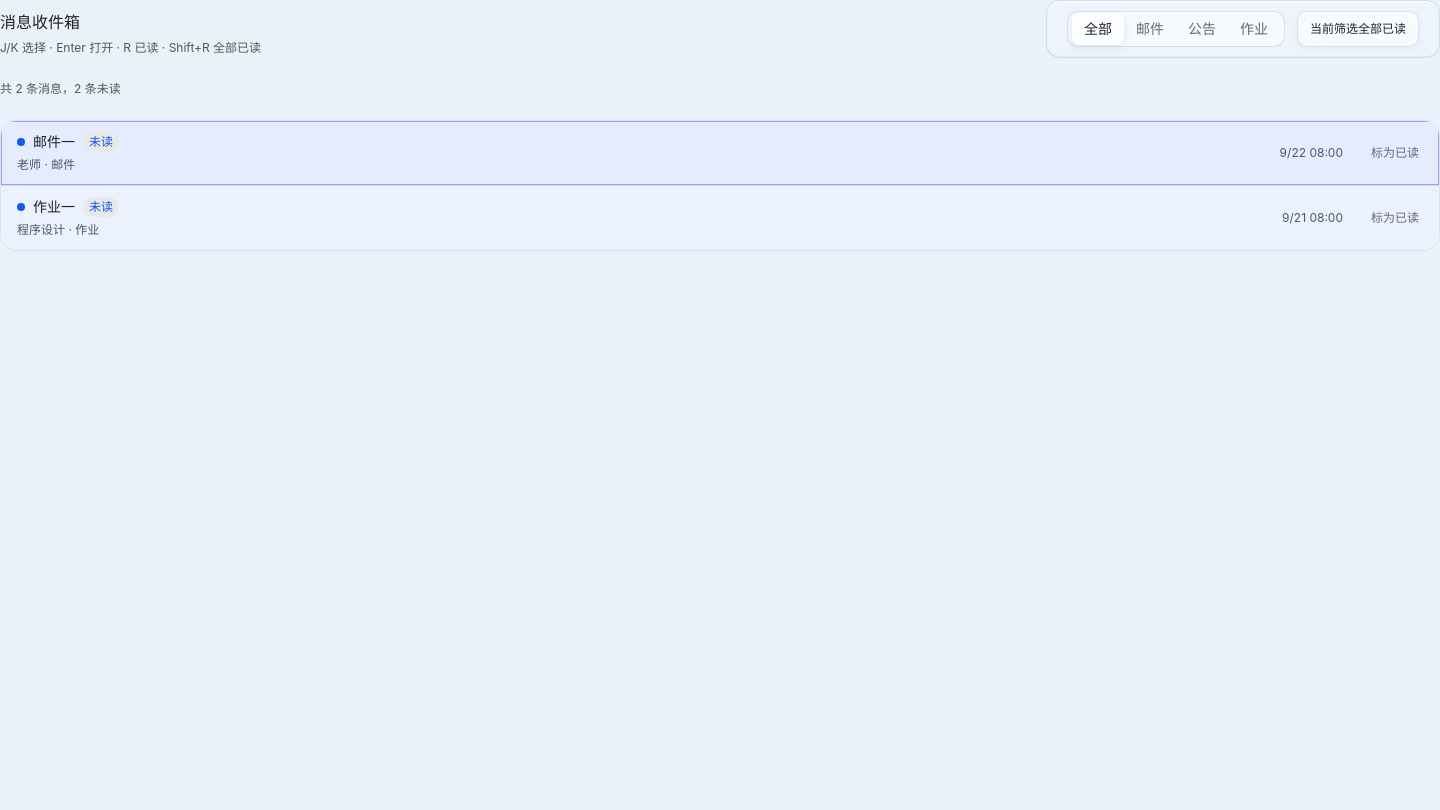
Scenario: MessagesView › 按钮 关闭详情后恢复实际触发按钮并恢复背景属性
Click the button with aria-label "打开消息详情：邮件一" at [54, 142], box [1,121,1351,185]
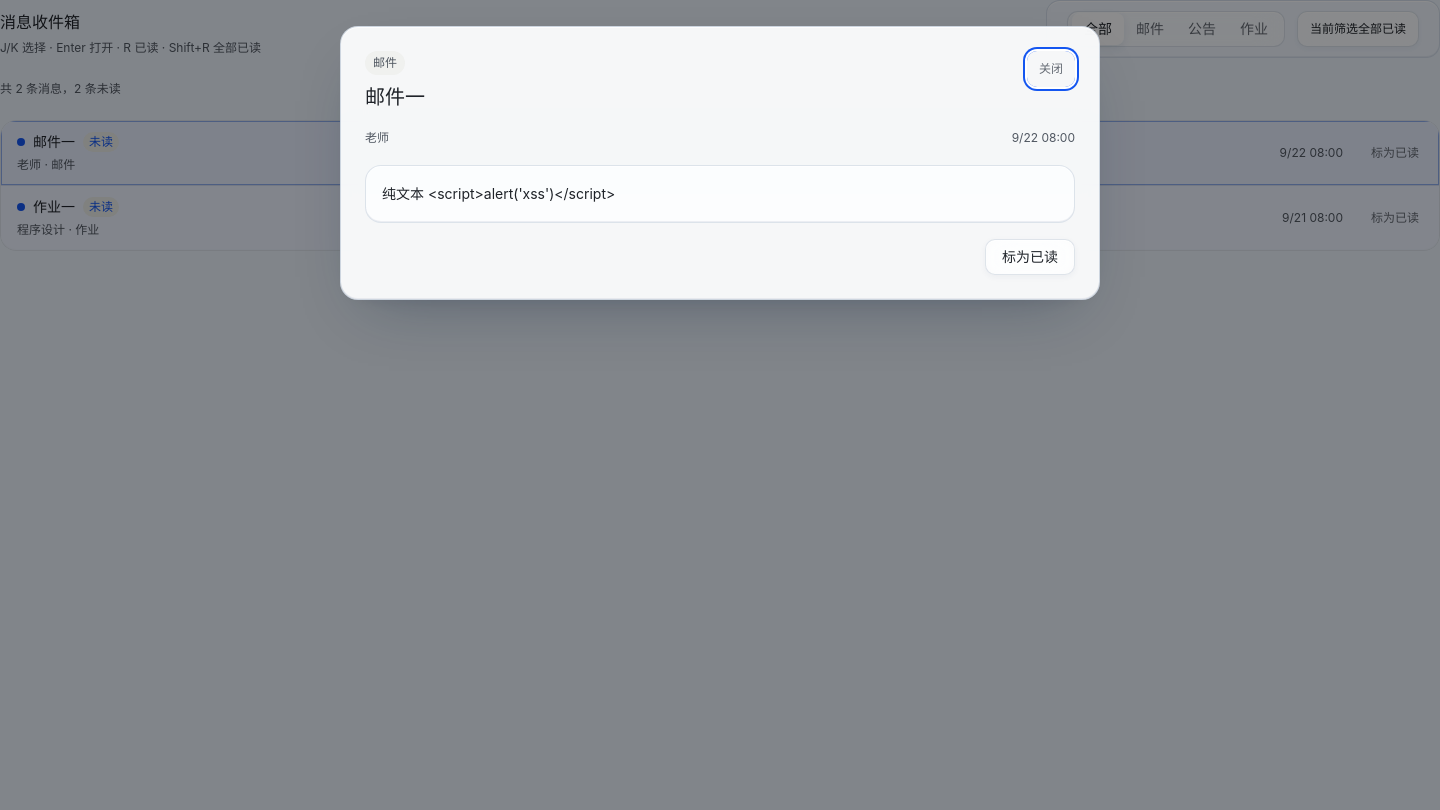
Press Tab
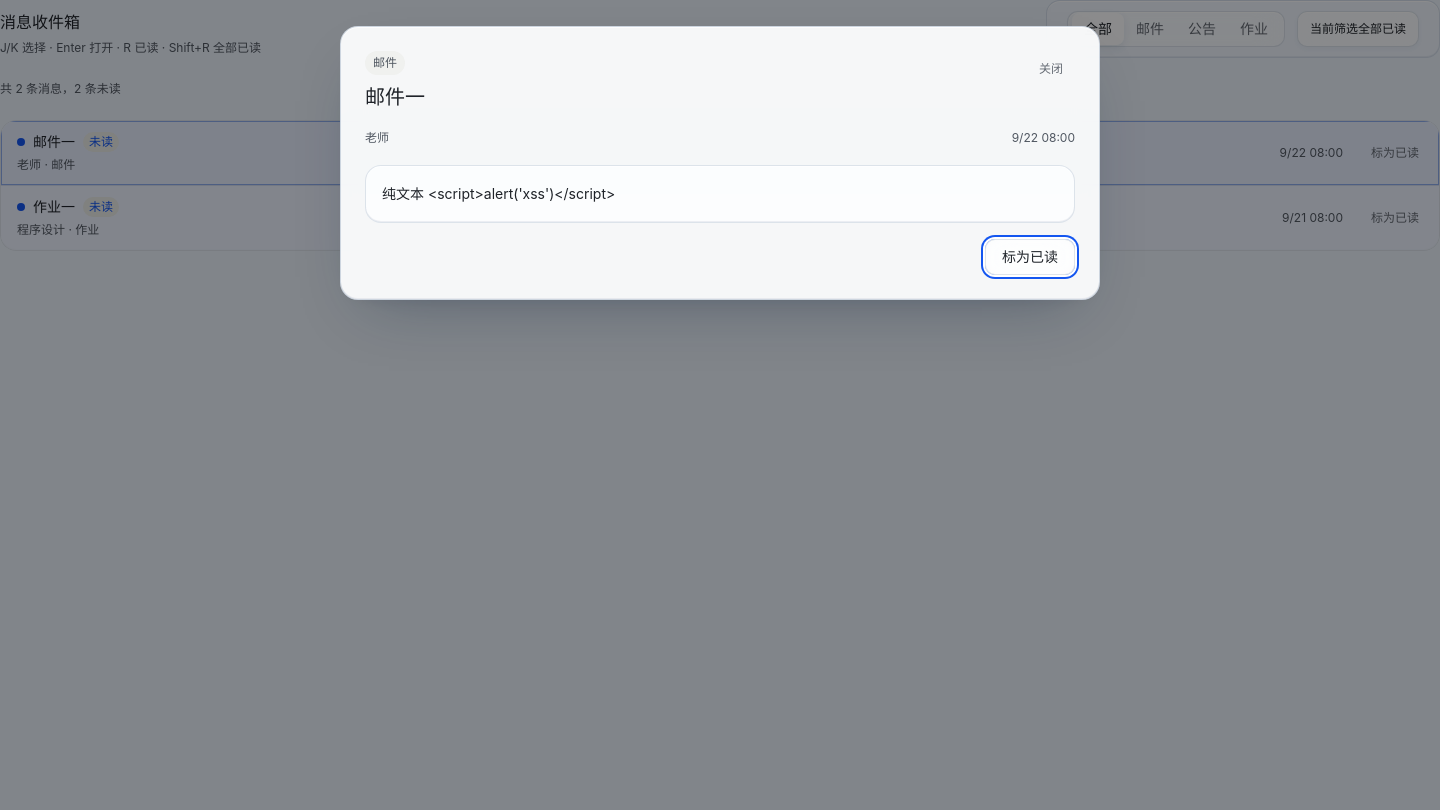
Press Tab
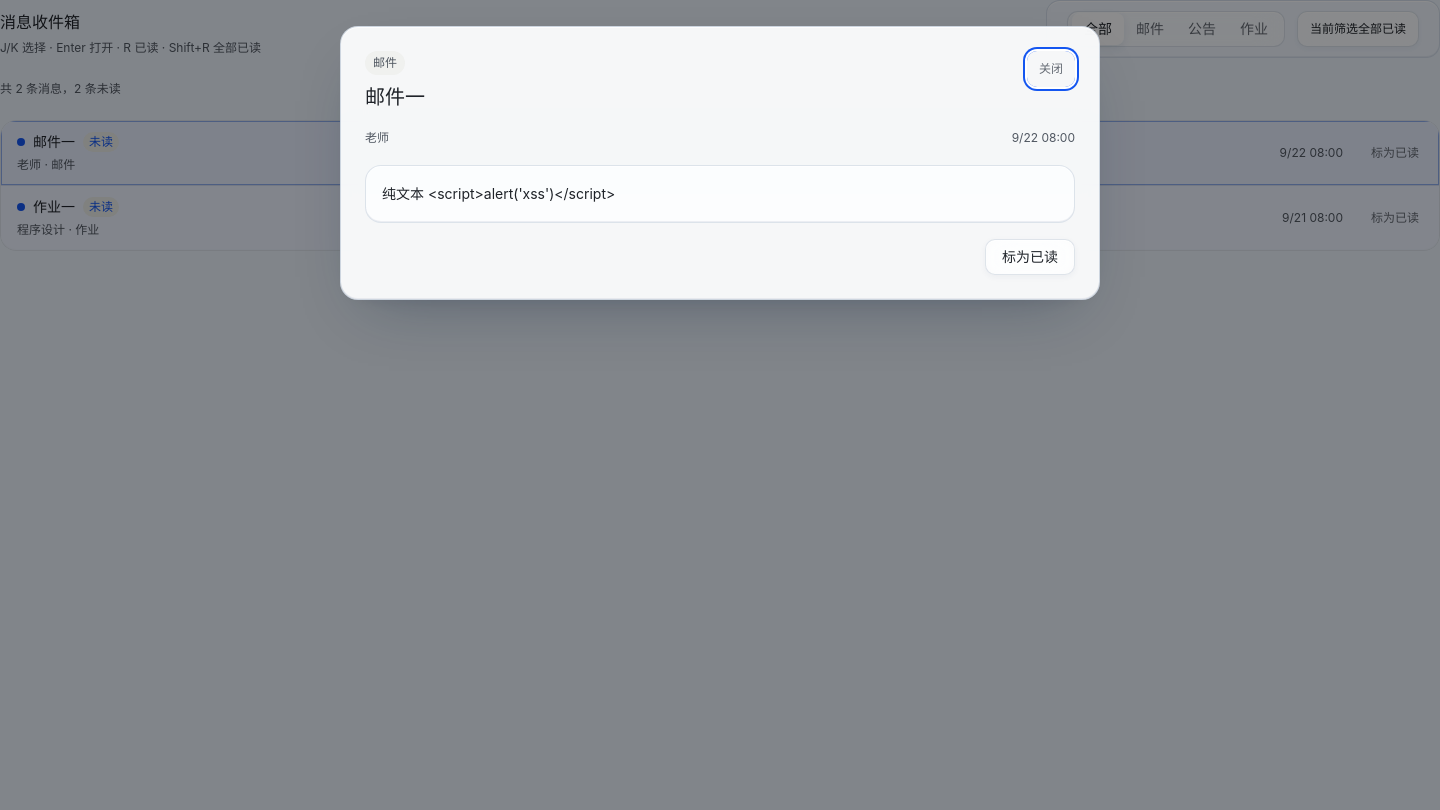
Click the button with aria-label "关闭消息详情" at [1051, 69], box [1027,51,1075,87]
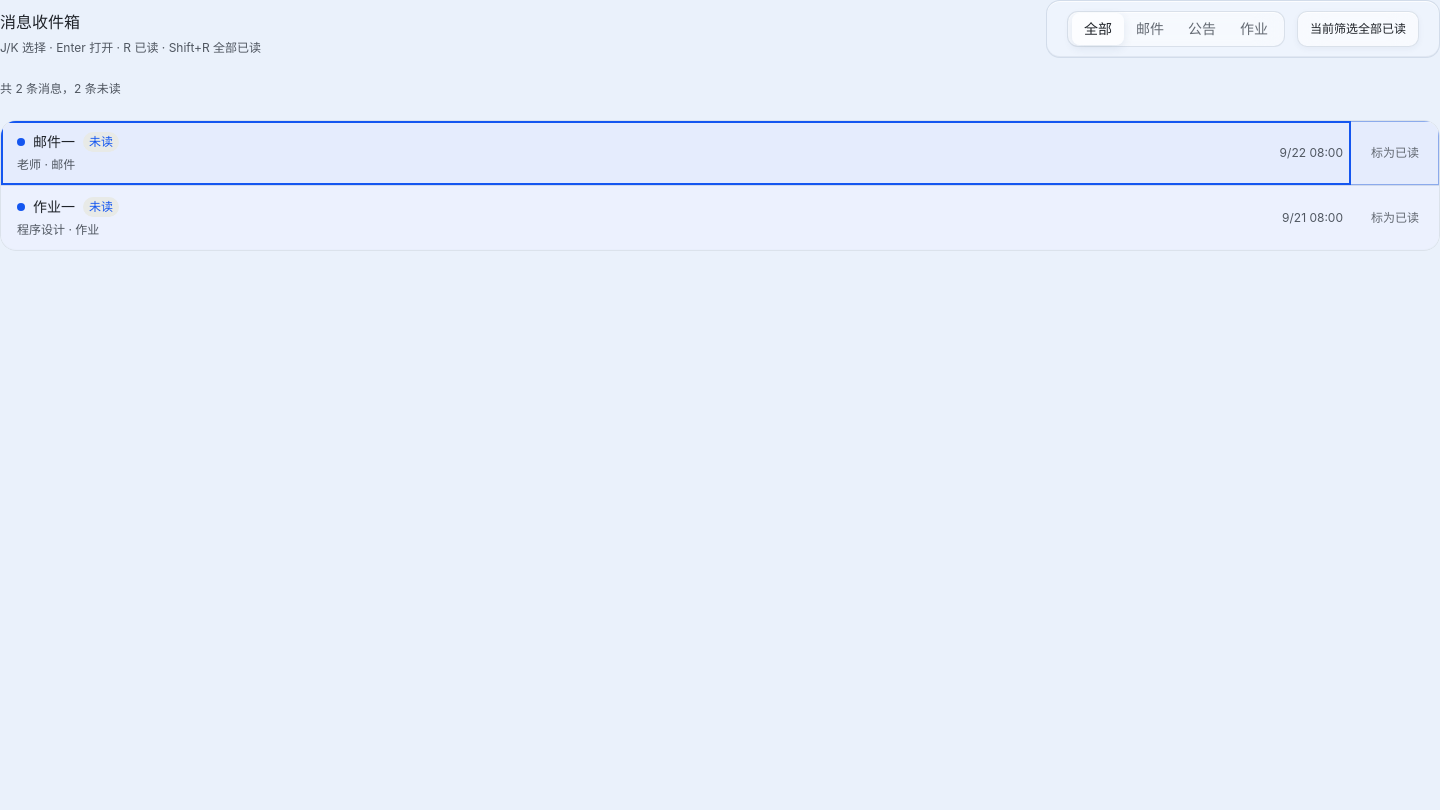
Expected: the dialog is gone
